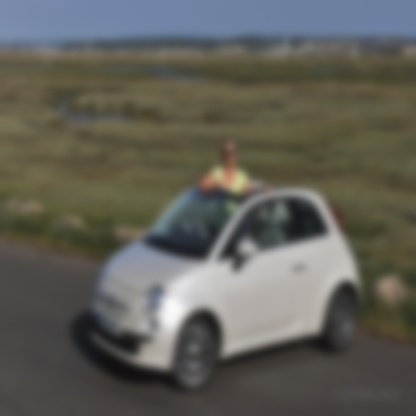Vehicle: (89, 179, 364, 394)
